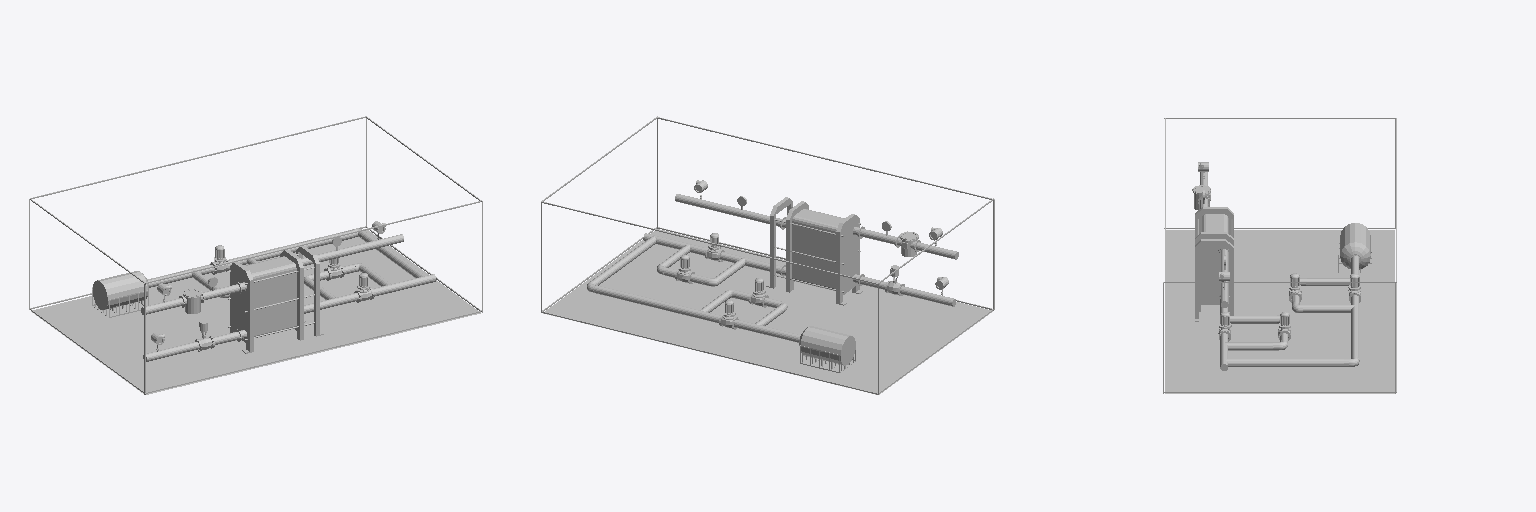
Rendered from demo_left.obj.
The picture shows the model from 3 angles: view 1: azimuth 30°, elevation 25°; view 2: azimuth 150°, elevation 25°; view 3: azimuth 270°, elevation 25°; orthographic projection.
Bounding box in the file's own units: 1862 × 590 × 1115.